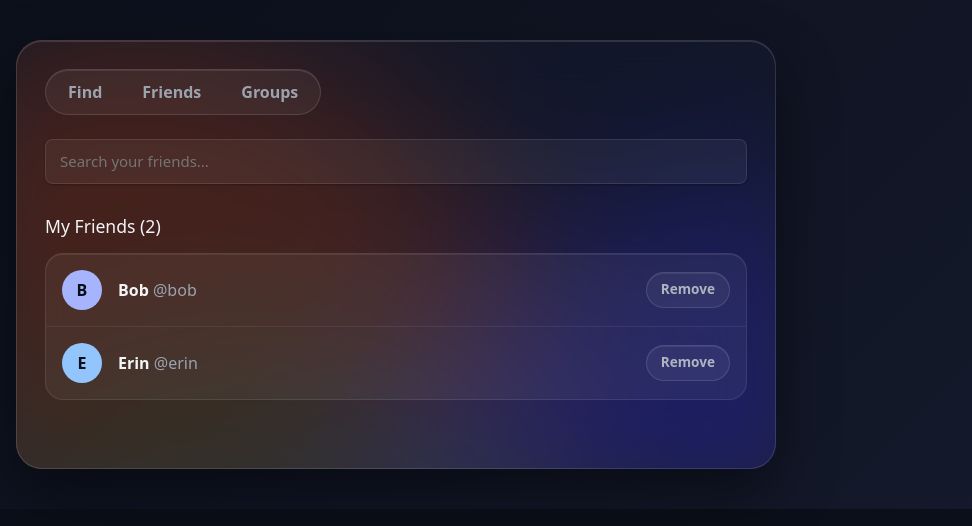
the search box filters only among my friends, by name or username
Expected: the heading "My Friends (2)" is shown, [45,214,161,238]
Step 1. Type "erin" into the field labelled "Search your friends" → (396, 161), box [45,139,747,184]
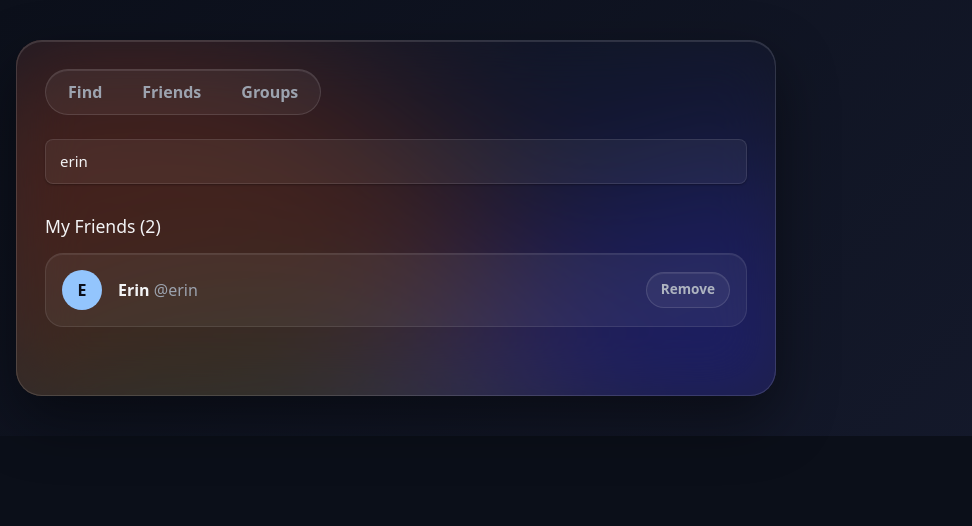
Expected: the button "Erin @erin" is shown, [118,278,198,302]
Result: the button "bob" is gone
Step 2. Replace the text in the field named "Search your friends" with "zzz" → (396, 161), box [45,139,747,184]
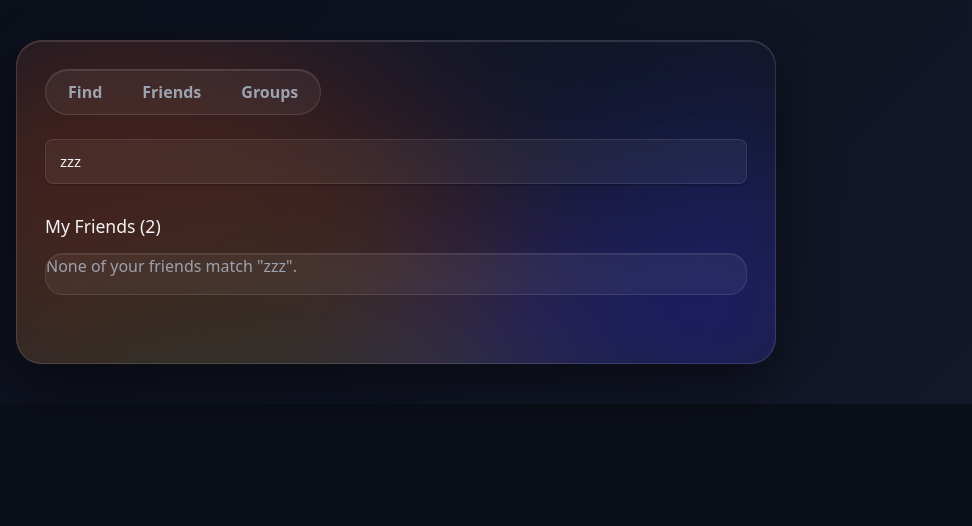
Result: the text "None of your friends match \"zzz\"." is shown at [46,255,297,277]
